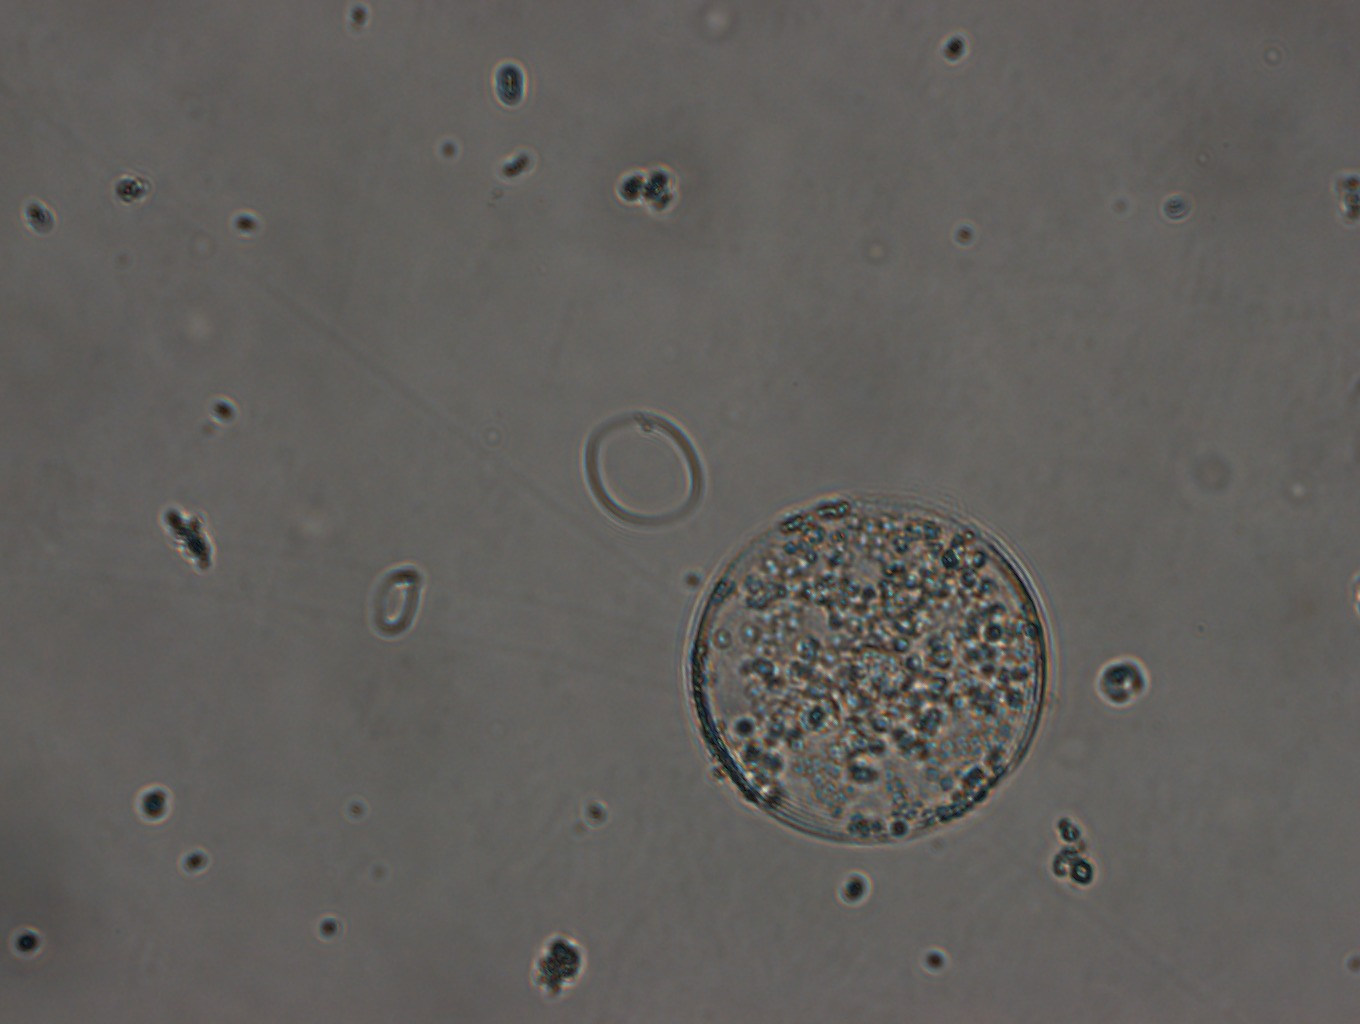coscinodiscus: (688, 487, 1050, 852)
